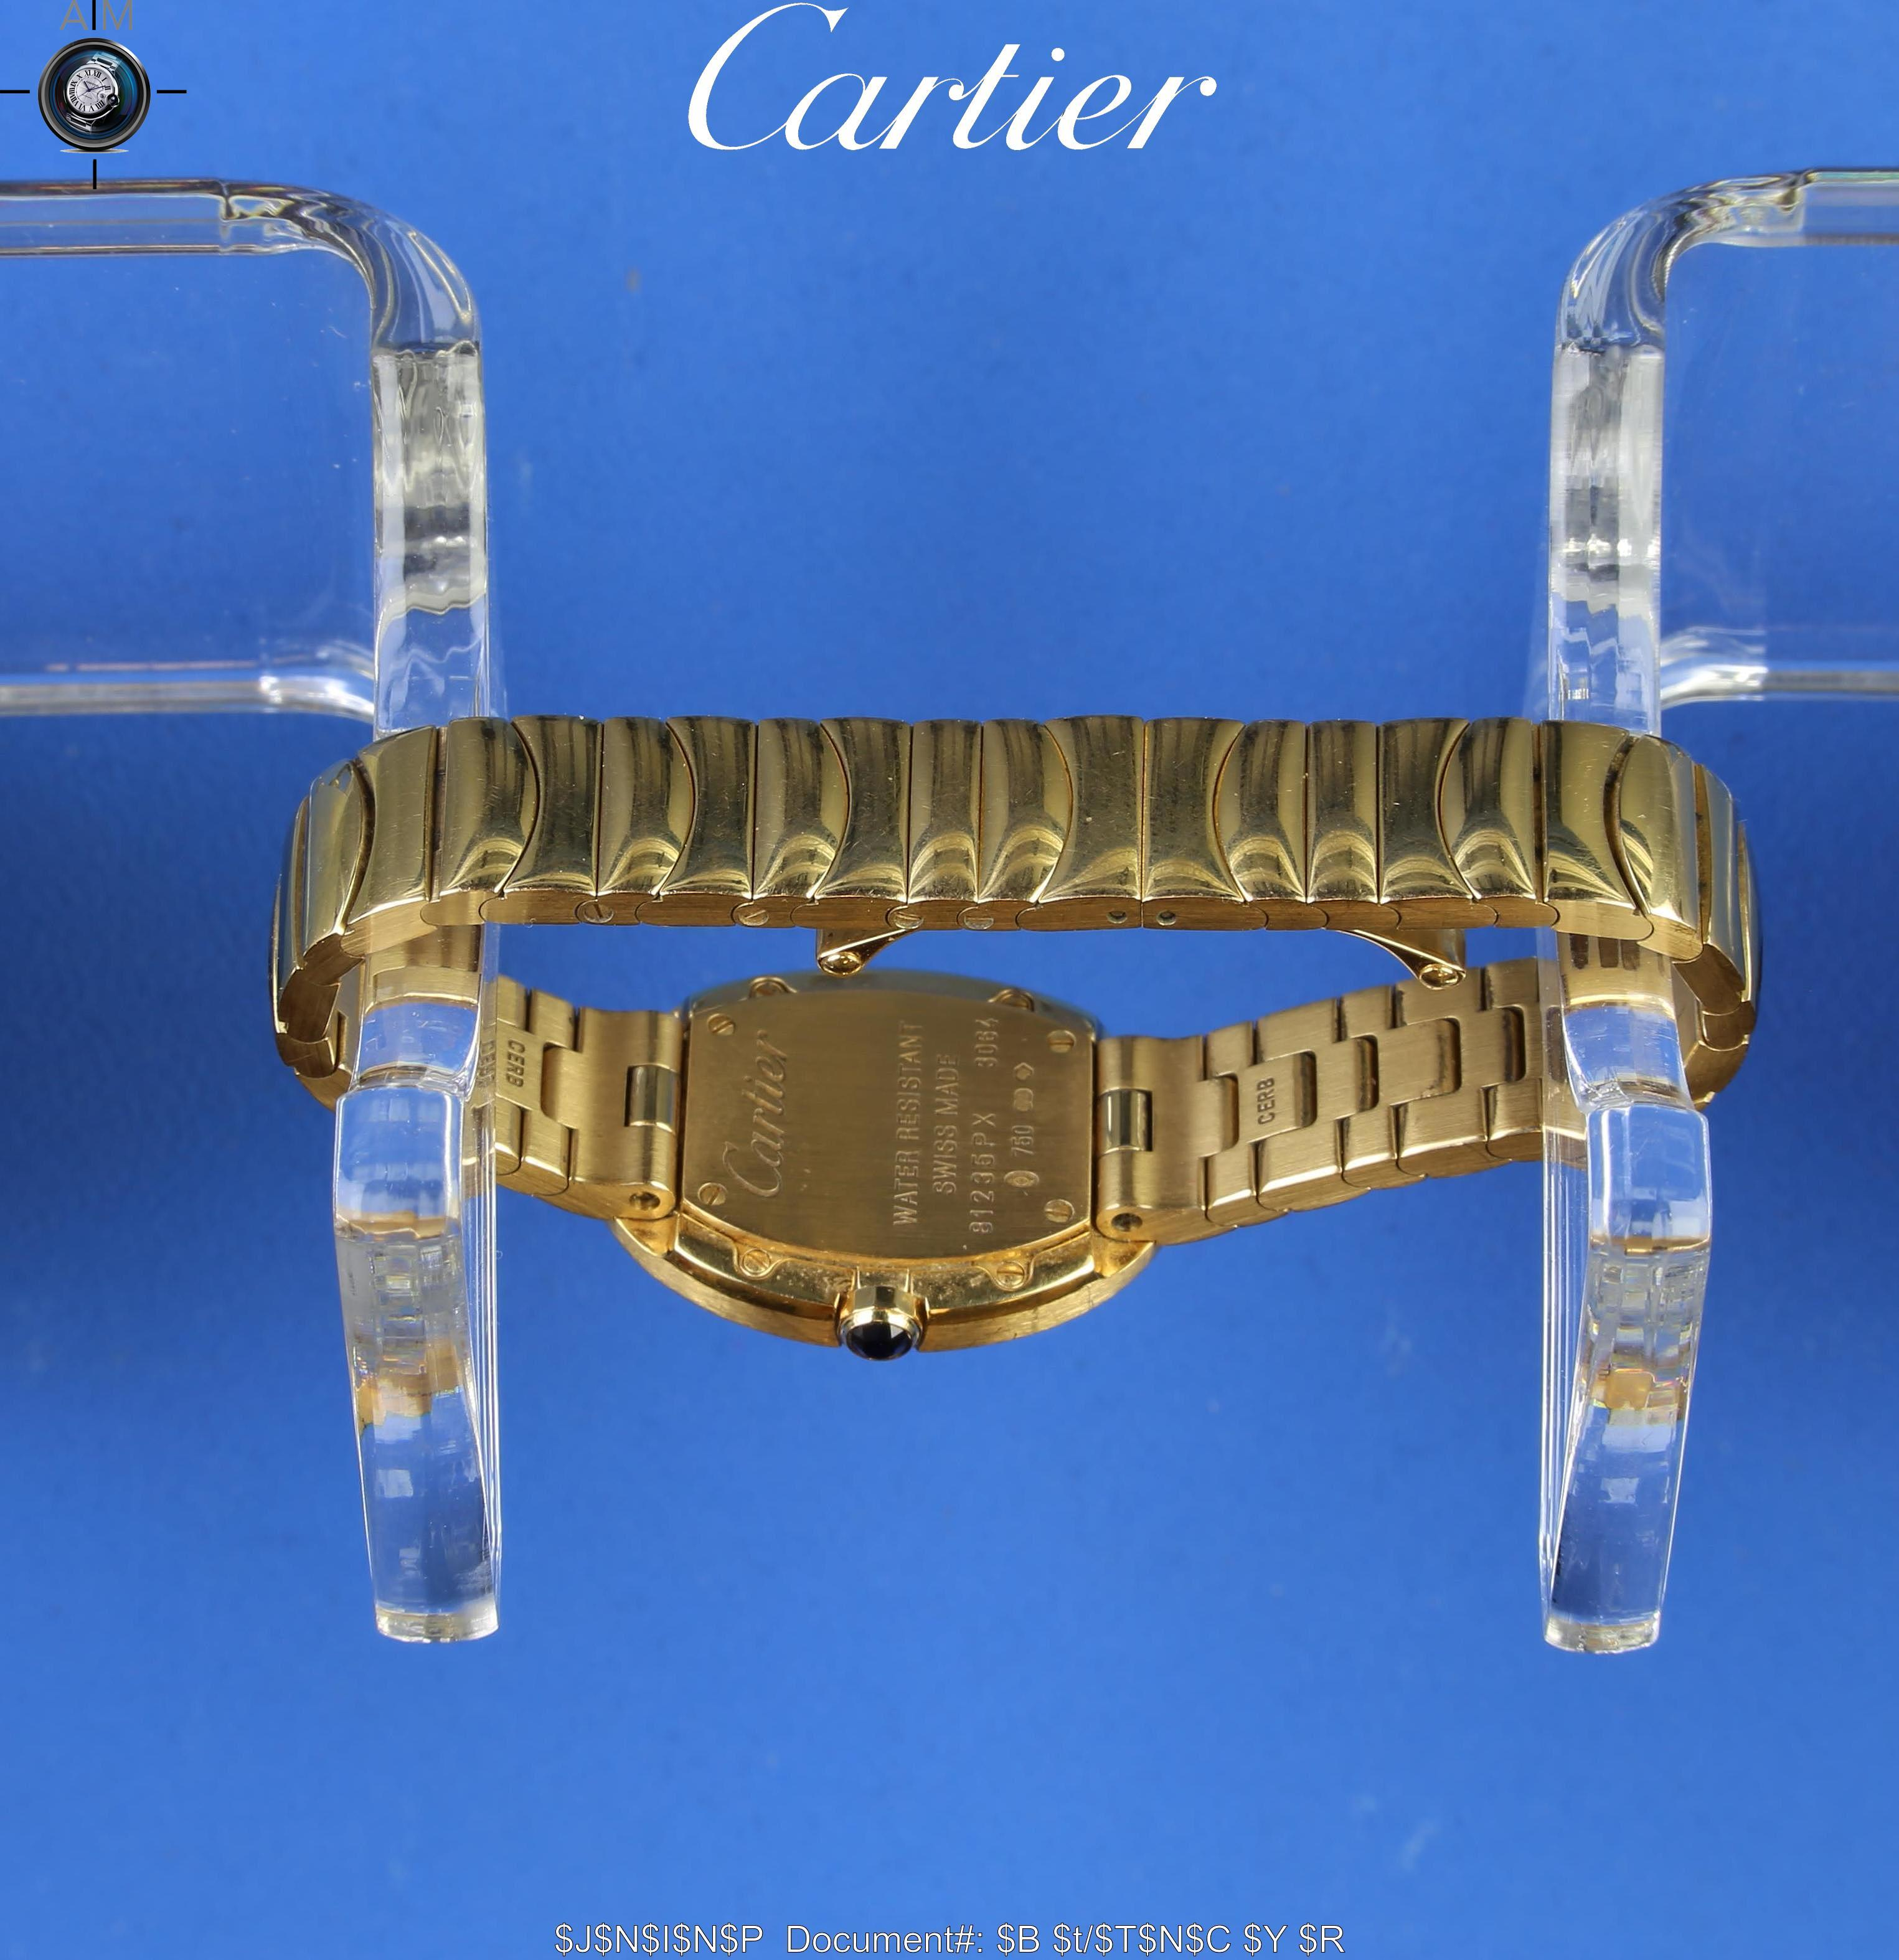Watch Back Case: (593, 952, 1180, 1368)
